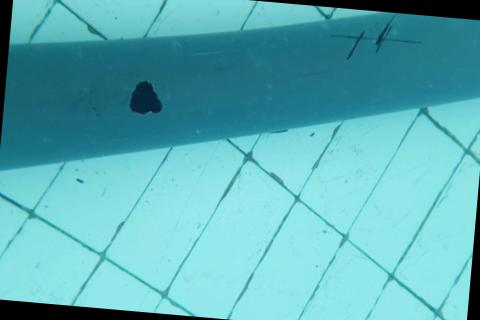kebocoran: (127, 78, 166, 117)
keretakan: (329, 7, 425, 63)
